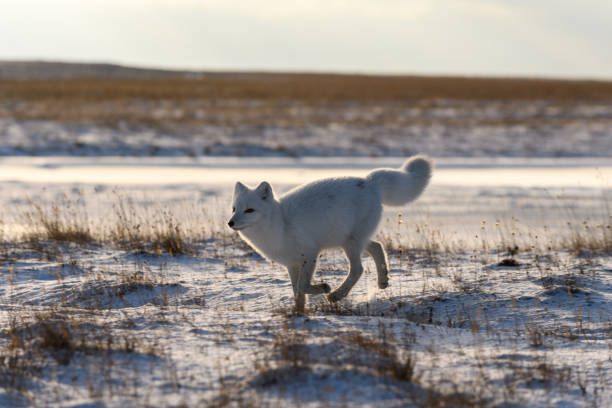arcticfox: (220, 186, 274, 247)
